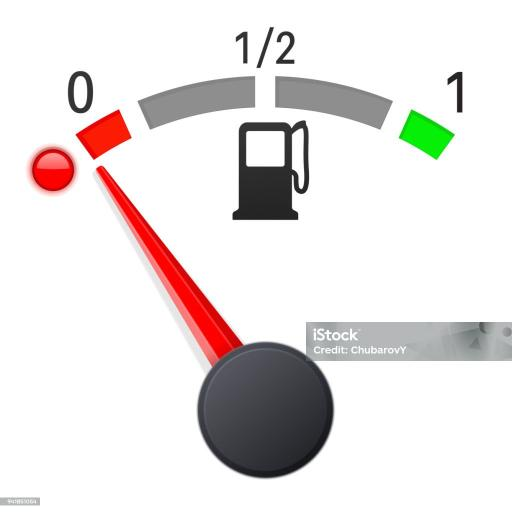empty: (63, 66, 102, 119)
fuel_icon: (232, 119, 314, 219)
full: (442, 69, 472, 113)
guage_area: (31, 23, 479, 482)
needle_center: (200, 336, 334, 478)
needle_tip: (89, 162, 118, 190)
